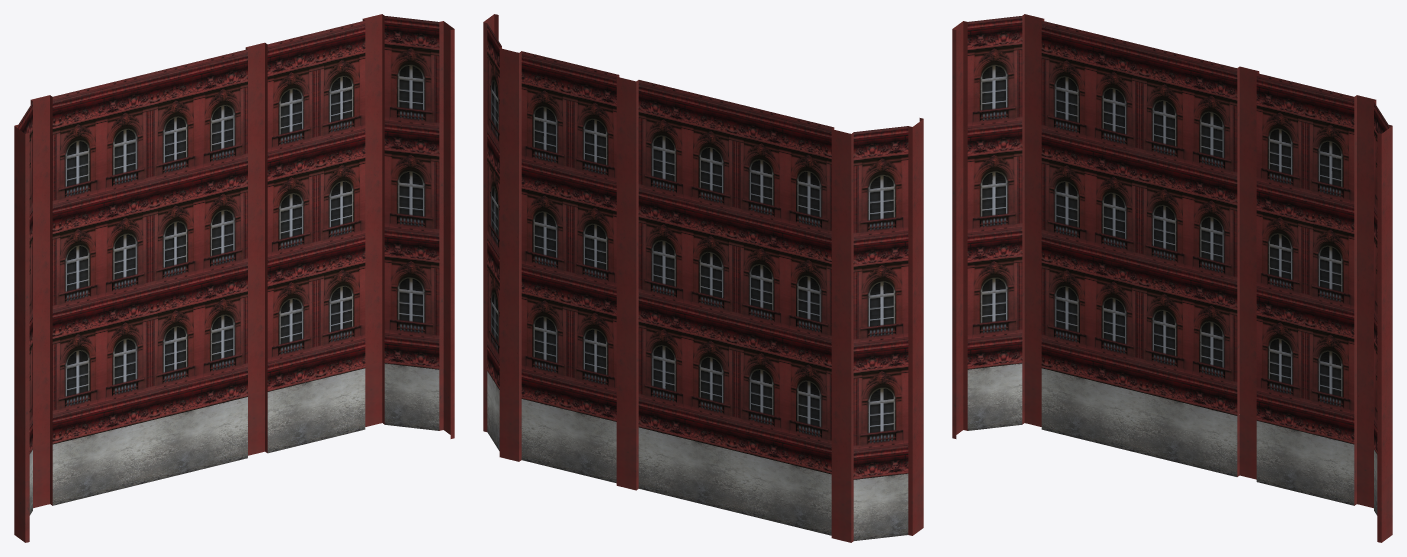
File: Red_Building.fbx
The picture shows the model from 3 angles, left to right: view 1: azimuth 30°, elevation 25°; view 2: azimuth 150°, elevation 25°; view 3: azimuth 330°, elevation 25°; orthographic projection.
Parts seen in each view (by area): view 1: Red_Building_Block_3_B, Red_Building_Block_2_B, Red_Building_Block_1_B, Red_Building_Block_3_A, Red_Building_Block_2_A, Red_Building_Block_4_B, Red_Building_Block_1_A, Red_Building_Block_4_A; view 2: Red_Building_Block_3_B, Red_Building_Block_2_B, Red_Building_Block_4_B, Red_Building_Block_3_A, Red_Building_Block_2_A, Red_Building_Block_1_B, Red_Building_Block_4_A, Red_Building_Block_1_A; view 3: Red_Building_Block_3_B, Red_Building_Block_2_B, Red_Building_Block_4_B, Red_Building_Block_3_A, Red_Building_Block_2_A, Red_Building_Block_1_B, Red_Building_Block_4_A, Red_Building_Block_1_A.
Boxes of the visible parts, x1,y1,x2,y2 form: Red_Building_Block_3_B: (30, 42, 267, 446); Red_Building_Block_2_B: (267, 14, 384, 391); Red_Building_Block_1_B: (384, 16, 454, 377); Red_Building_Block_3_A: (33, 390, 267, 508); Red_Building_Block_2_A: (267, 361, 384, 453); Red_Building_Block_4_B: (14, 102, 32, 481); Red_Building_Block_1_A: (384, 363, 454, 438); Red_Building_Block_4_A: (14, 450, 32, 542); Red_Building_Block_3_B: (616, 75, 853, 481); Red_Building_Block_2_B: (499, 46, 618, 421); Red_Building_Block_4_B: (853, 118, 923, 479); Red_Building_Block_3_A: (616, 424, 853, 542); Red_Building_Block_2_A: (499, 396, 616, 483); Red_Building_Block_1_B: (483, 14, 501, 389); Red_Building_Block_4_A: (853, 467, 923, 540); Red_Building_Block_1_A: (483, 370, 499, 450); Red_Building_Block_3_B: (1022, 14, 1259, 418); Red_Building_Block_2_B: (1256, 73, 1376, 446); Red_Building_Block_4_B: (952, 16, 1022, 377); Red_Building_Block_3_A: (1022, 361, 1256, 479); Red_Building_Block_2_A: (1256, 421, 1373, 508); Red_Building_Block_1_B: (1374, 102, 1392, 481); Red_Building_Block_4_A: (952, 363, 1022, 438); Red_Building_Block_1_A: (1374, 450, 1392, 542).
Bounding box in the file's own units: 2197 × 2000 × 298.
